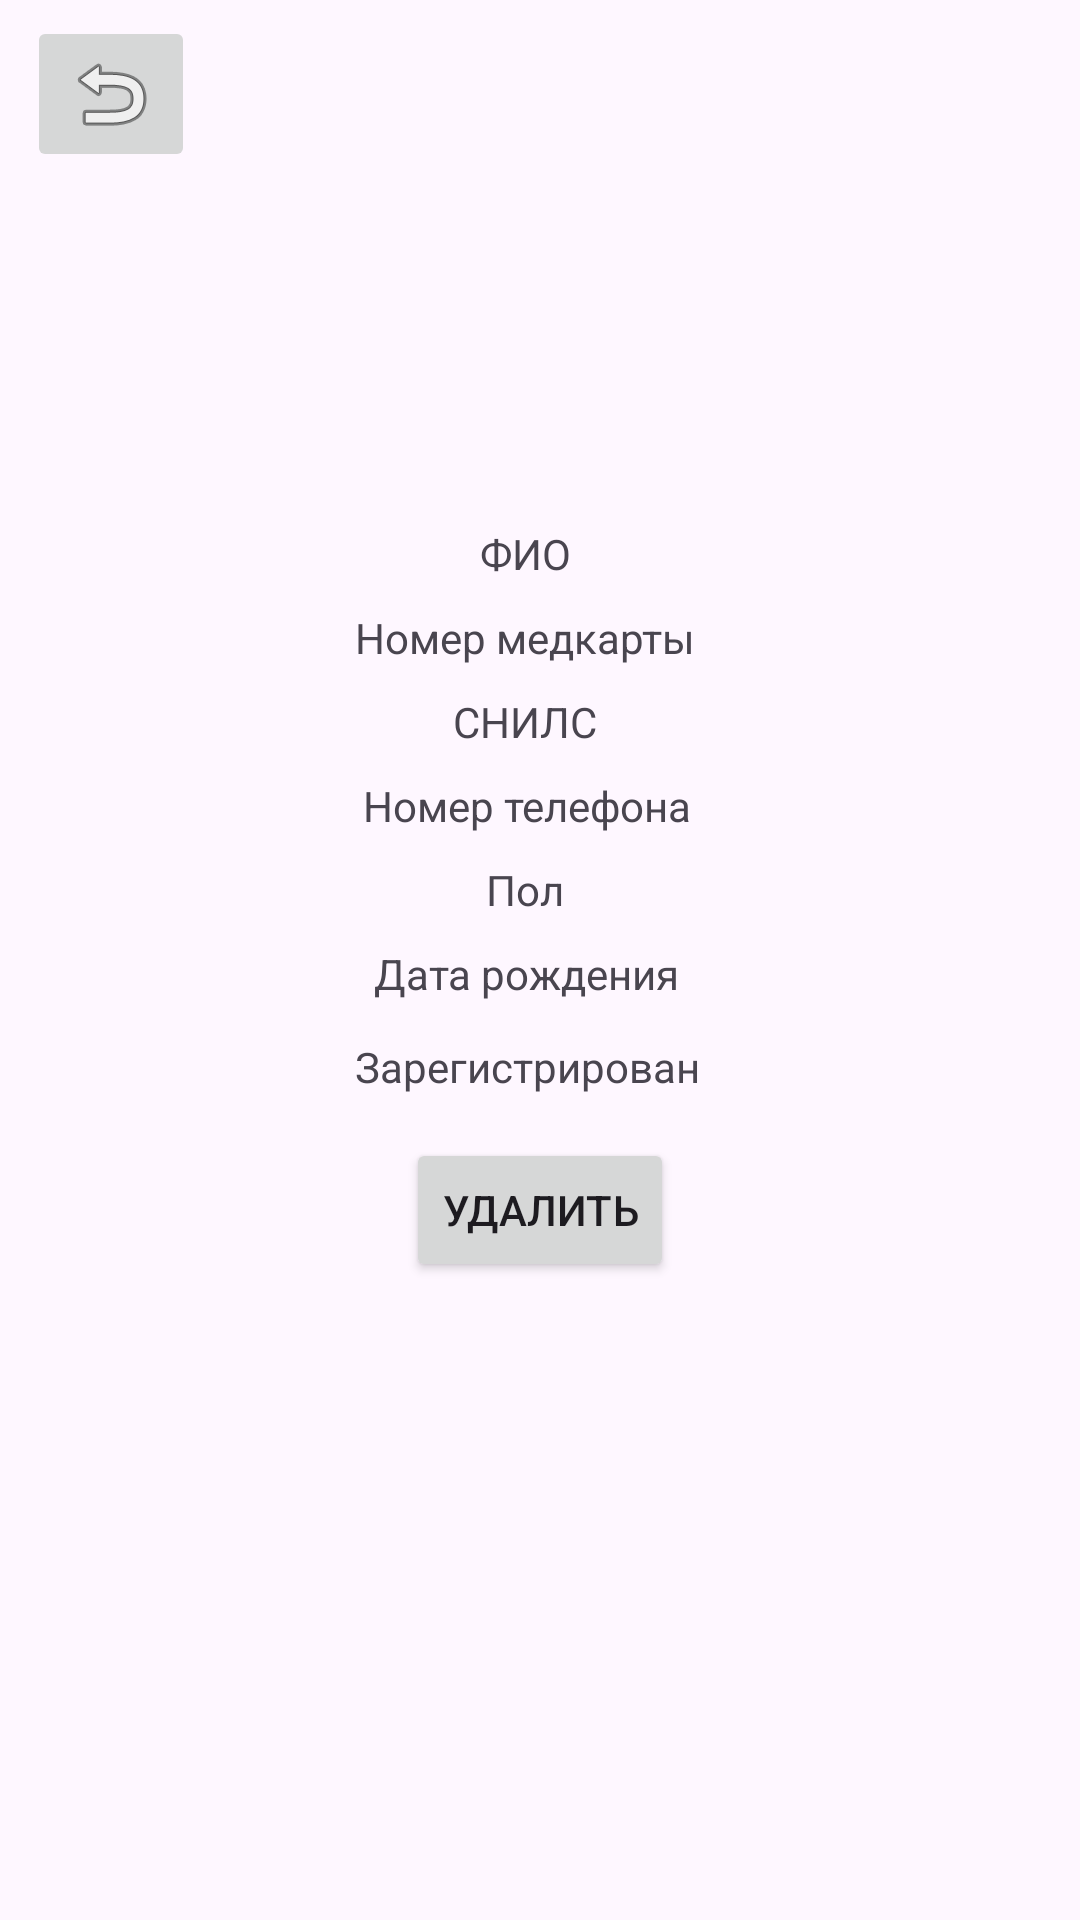

Screen size 1080px×1920px. Icon name, then its box in pixels as [x1,y1,x2,y2]:
revert: [39,34,183,154]
